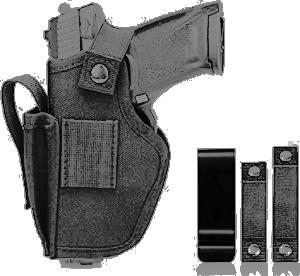handgun: (37, 6, 230, 262)
